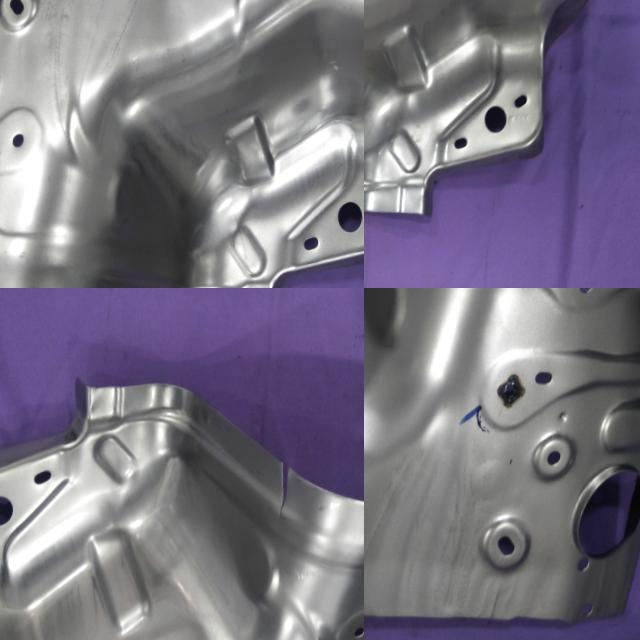Defect: (262, 441, 304, 528), (48, 264, 88, 288)
Healthy: (364, 288, 640, 640), (364, 0, 640, 241)
